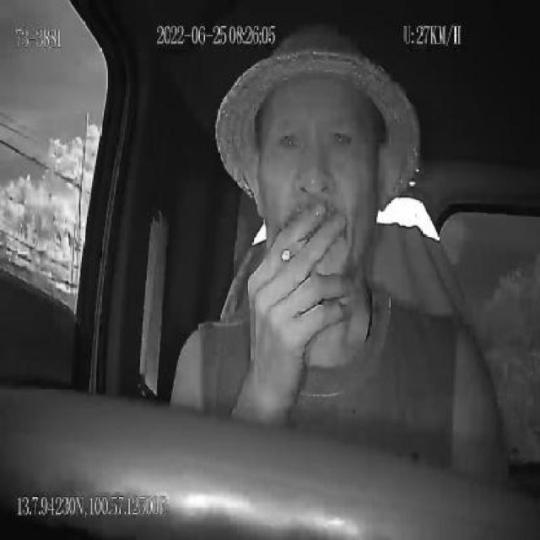smoking: (281, 232, 311, 262)
